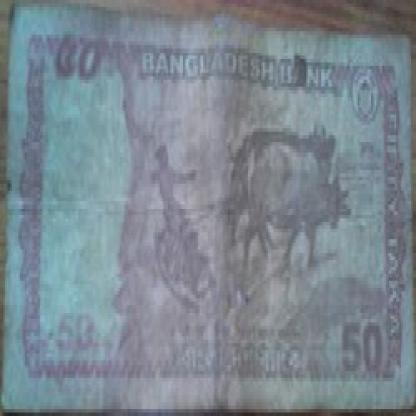Fifty taka: (341, 301, 389, 384), (55, 31, 105, 104)
